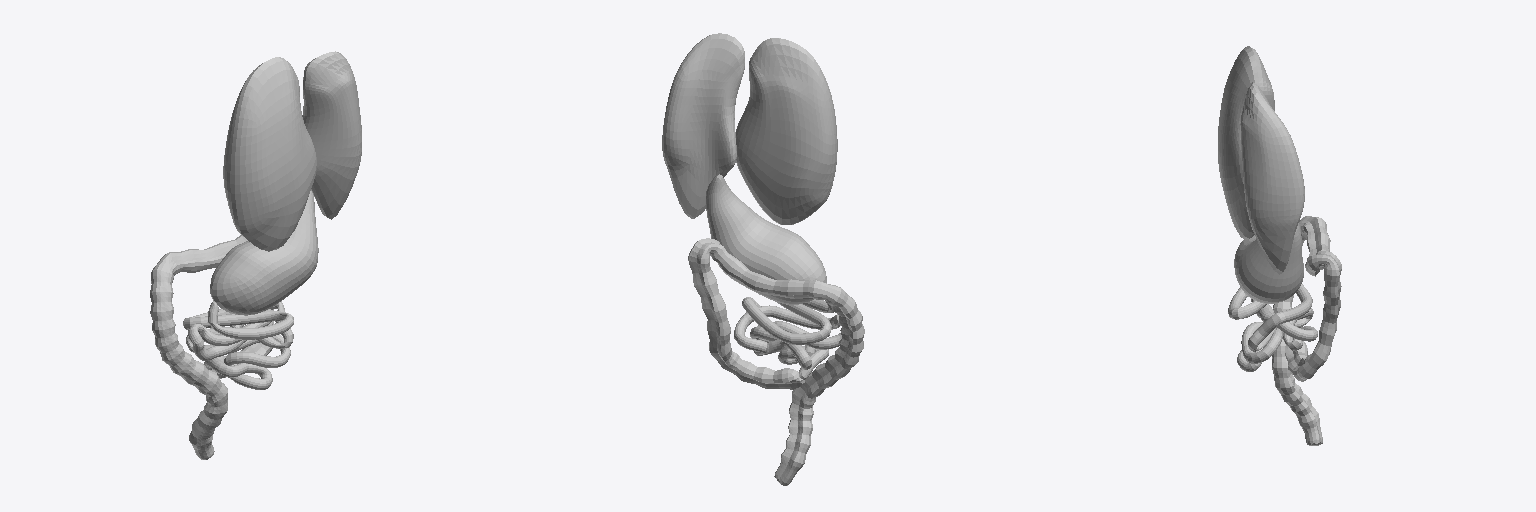
Rendered from redOrgans.obj.
3 views of the same model, side by side, from view 1: azimuth 30°, elevation 25°; view 2: azimuth 150°, elevation 25°; view 3: azimuth 270°, elevation 25° (orthographic).
Visible parts, largest first — view 1: leftLung main LAYOUT_GROUP, main LAYOUT_GROUP rightLung, main LAYOUT_GROUP largeIntestine, main LAYOUT_GROUP stomach, main LAYOUT_GROUP smallIntestine; view 2: leftLung main LAYOUT_GROUP, main LAYOUT_GROUP largeIntestine, main LAYOUT_GROUP rightLung, main LAYOUT_GROUP stomach, main LAYOUT_GROUP smallIntestine; view 3: main LAYOUT_GROUP rightLung, main LAYOUT_GROUP largeIntestine, leftLung main LAYOUT_GROUP, main LAYOUT_GROUP smallIntestine, main LAYOUT_GROUP stomach.
Part boxes in pixels (bbox=[...]): leftLung main LAYOUT_GROUP: bbox=[223, 57, 316, 251]; main LAYOUT_GROUP rightLung: bbox=[302, 51, 361, 219]; main LAYOUT_GROUP largeIntestine: bbox=[150, 235, 273, 459]; main LAYOUT_GROUP stomach: bbox=[210, 191, 318, 315]; main LAYOUT_GROUP smallIntestine: bbox=[183, 301, 293, 389]; leftLung main LAYOUT_GROUP: bbox=[736, 38, 837, 224]; main LAYOUT_GROUP largeIntestine: bbox=[688, 238, 864, 485]; main LAYOUT_GROUP rightLung: bbox=[662, 33, 744, 218]; main LAYOUT_GROUP stomach: bbox=[706, 174, 826, 304]; main LAYOUT_GROUP smallIntestine: bbox=[734, 297, 841, 379]; main LAYOUT_GROUP rightLung: bbox=[1240, 82, 1304, 274]; main LAYOUT_GROUP largeIntestine: bbox=[1272, 216, 1341, 445]; leftLung main LAYOUT_GROUP: bbox=[1218, 46, 1274, 239]; main LAYOUT_GROUP smallIntestine: bbox=[1228, 284, 1317, 371]; main LAYOUT_GROUP stomach: bbox=[1234, 223, 1303, 303].
Size of the model in its own units: 3.37 by 6.75 by 1.84.